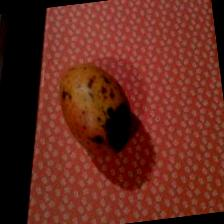Mango Rotten: (48, 52, 142, 155)
